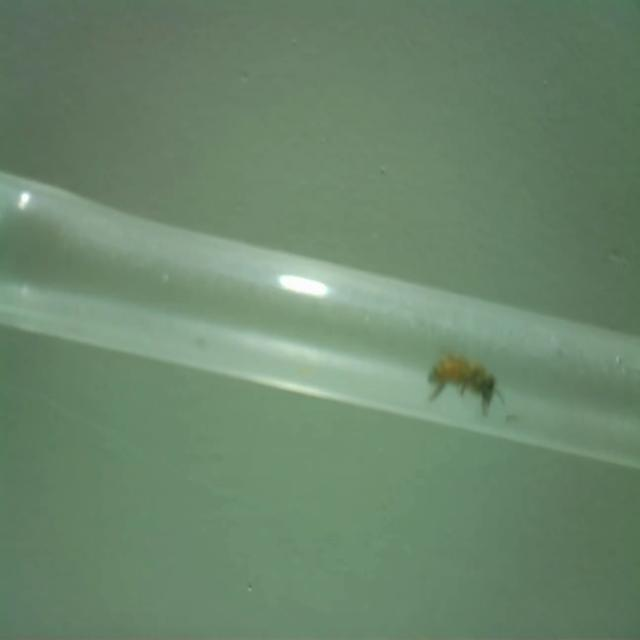Honeybee-Detection: (428, 349, 505, 417)
